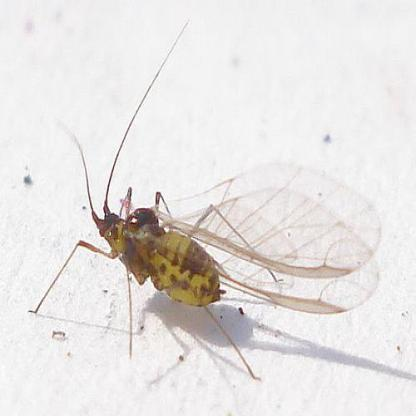aphid: (41, 38, 374, 363)
